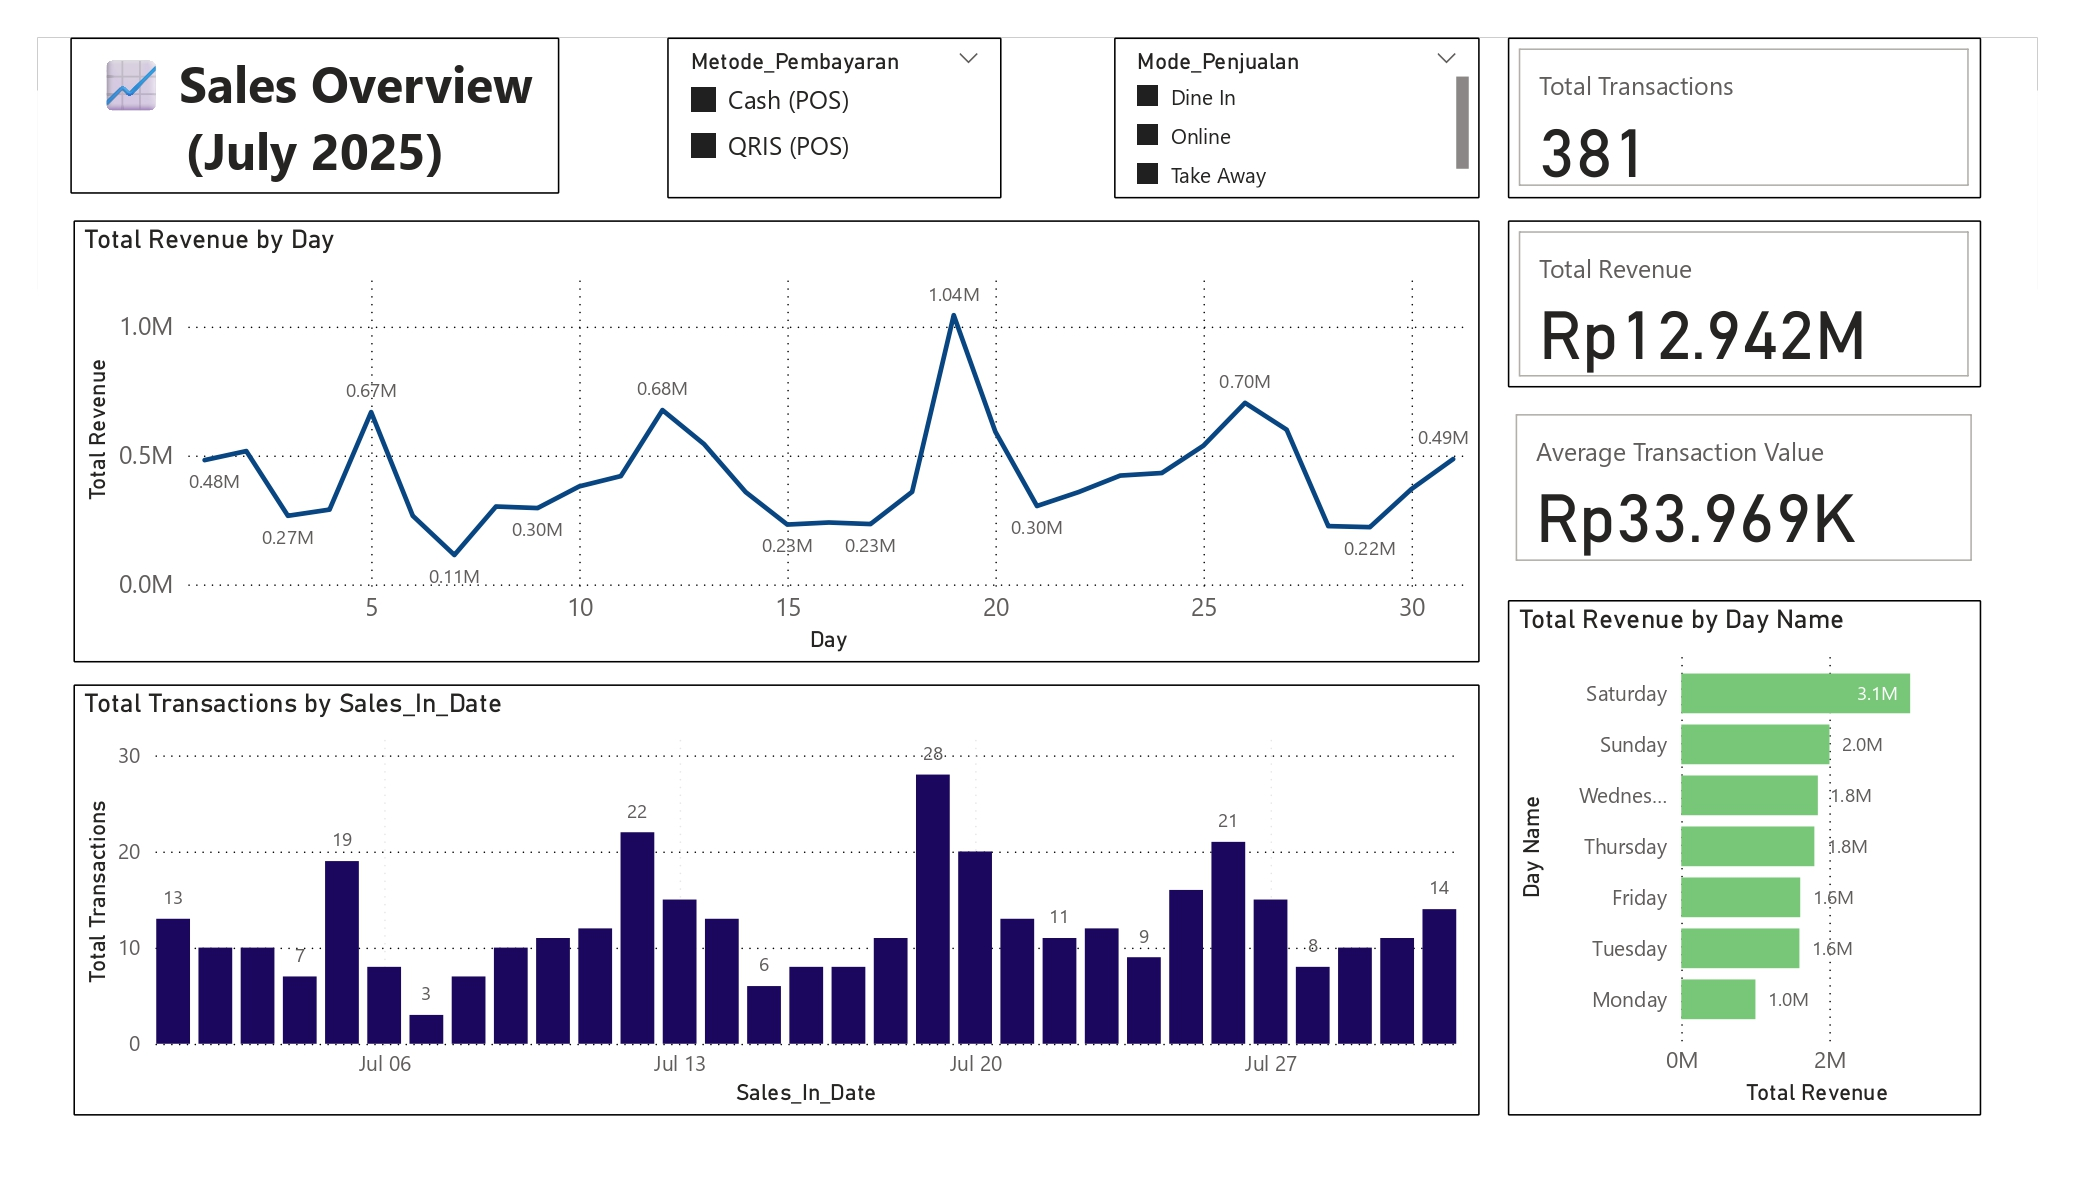

Layout of this report page (visuals, bound fields, positions):
{"tool":"powerbi","page":{"name":"sales_overview","canvas":[1280,720],"ordinal":0},"visuals":[{"type":"slicer","fields":{"Values":["Laporan Penjualan.Metode_Pembayaran"]},"box":[22.9,120,12.9,14.3],"z":0},{"type":"cardVisual","fields":{"Data":["Laporan Penjualan.Total Revenue"]},"box":[941.4,117.1,302.9,107.1],"z":1000},{"type":"cardVisual","fields":{"Data":["Laporan Penjualan.Total Transactions"]},"box":[941.4,0,302.9,102.9],"z":2000},{"type":"cardVisual","fields":{"Data":["Laporan Penjualan.Average Transaction Value"]},"box":[941.4,235.7,302.9,104.3],"z":3000},{"type":"lineChart","fields":{"Category":["Laporan Penjualan.Sales_In_Date.Variation.Date Hierarchy.Year","Laporan Penjualan.Sales_In_Date.Variation.Date Hierarchy.Quarter","Laporan Penjualan.Sales_In_Date.Variation.Date Hierarchy.Month","Laporan Penjualan.Sales_In_Date.Variation.Date Hierarchy.Day"],"Y":["Laporan Penjualan.Total Revenue"]},"box":[22.9,117.1,900,282.9],"z":4000},{"type":"columnChart","fields":{"Category":["Laporan Penjualan.Sales_In_Date"],"Y":["Laporan Penjualan.Total Transactions"]},"box":[22.9,414.3,900,275.7],"z":5000},{"type":"textbox","box":[21.4,0,312.9,100],"z":6000},{"type":"clusteredBarChart","fields":{"Category":["Laporan Penjualan.Day Name"],"Y":["Laporan Penjualan.Total Revenue"]},"box":[941.4,360,302.9,330],"z":7000},{"type":"slicer","fields":{"Values":["Laporan Penjualan.Mode_Penjualan"]},"box":[688.6,0,234.3,102.9],"z":8000},{"type":"slicer","fields":{"Values":["Laporan Penjualan.Metode_Pembayaran"]},"box":[402.9,0,214.3,102.9],"z":9000}]}

Visuals, with their boxes in screenshot pixels (x1, y1, x2, y2):
slicer - Laporan Penjualan.Metode_Pembayaran: (73,225,93,247)
cardVisual - Laporan Penjualan.Total Revenue: (1508,220,1982,388)
cardVisual - Laporan Penjualan.Total Transactions: (1508,38,1982,198)
cardVisual - Laporan Penjualan.Average Transaction Value: (1508,406,1982,569)
lineChart - Laporan Penjualan.Sales_In_Date.Variation.Date Hierarchy.Year x Laporan Penjualan.Sales_In_Date.Variation.Date Hierarchy.Quarter: (73,220,1480,662)
columnChart - Laporan Penjualan.Sales_In_Date x Laporan Penjualan.Total Transactions: (73,685,1480,1116)
textbox: (71,38,560,194)
clusteredBarChart - Laporan Penjualan.Day Name x Laporan Penjualan.Total Revenue: (1508,600,1982,1116)
slicer - Laporan Penjualan.Mode_Penjualan: (1113,38,1480,198)
slicer - Laporan Penjualan.Metode_Pembayaran: (667,38,1002,198)
